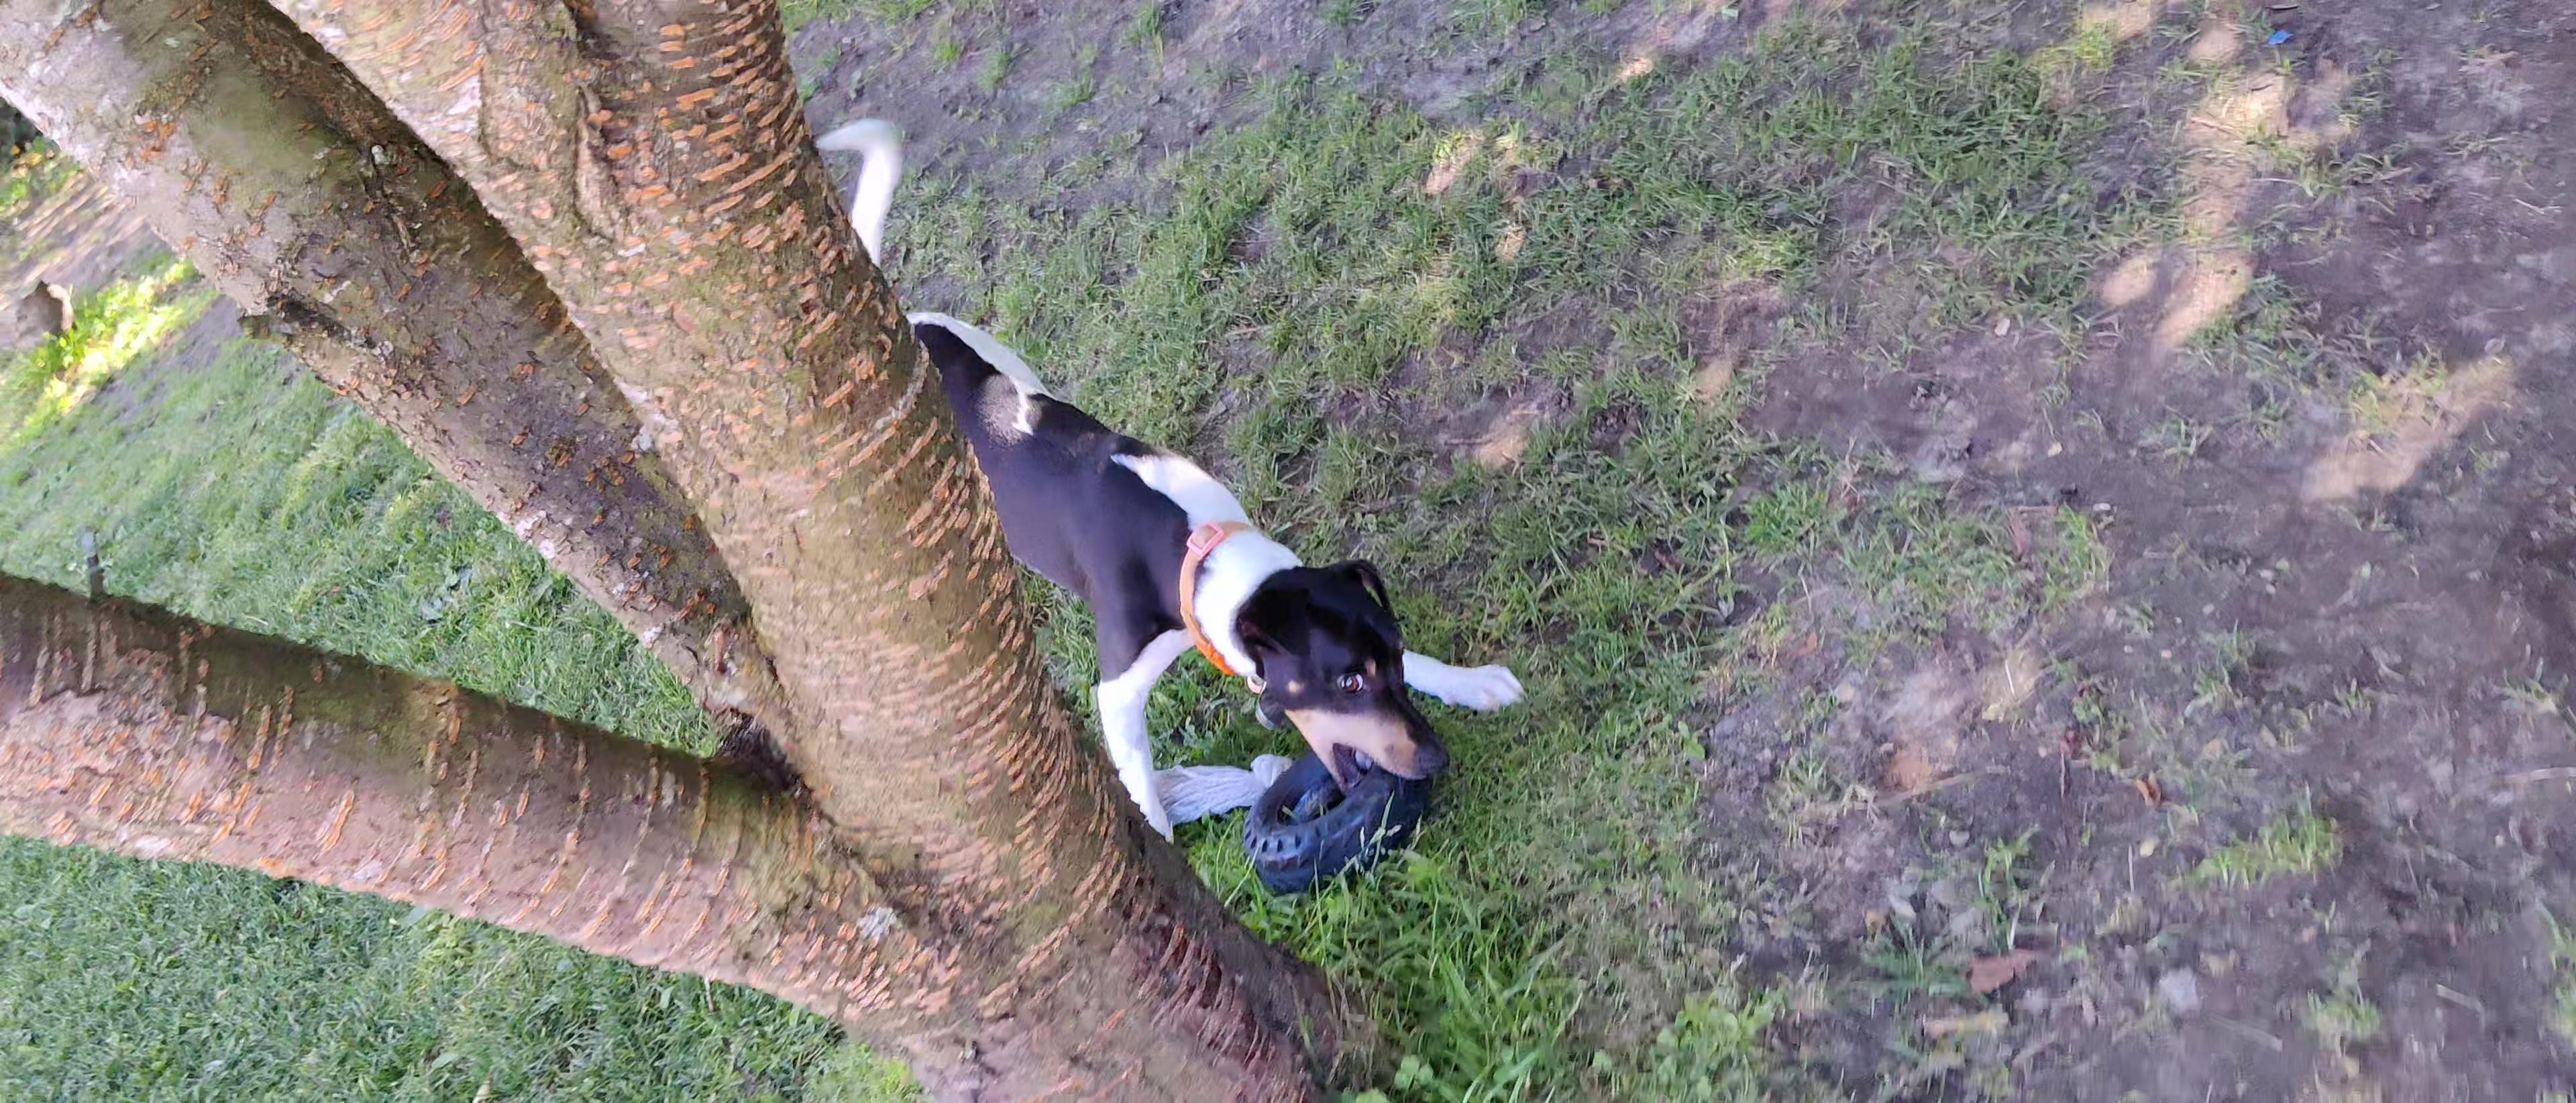Dog: (785, 84, 1533, 866)
